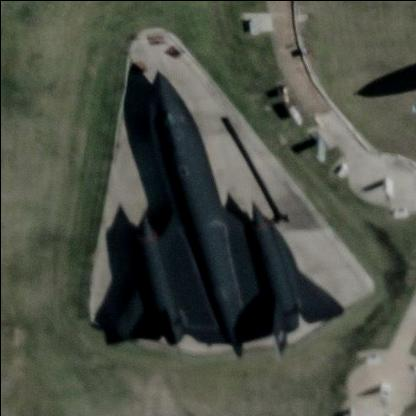Rafale: (114, 68, 342, 364)
